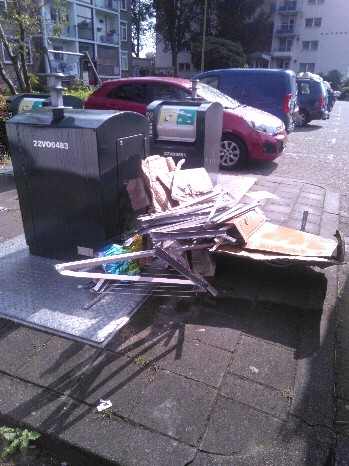Container: (15, 103, 125, 272), (149, 92, 219, 175)
Papier: (246, 196, 318, 283)
Rest: (151, 164, 216, 300)
Voertuig: (110, 70, 282, 164), (218, 52, 299, 138), (248, 81, 331, 112)
